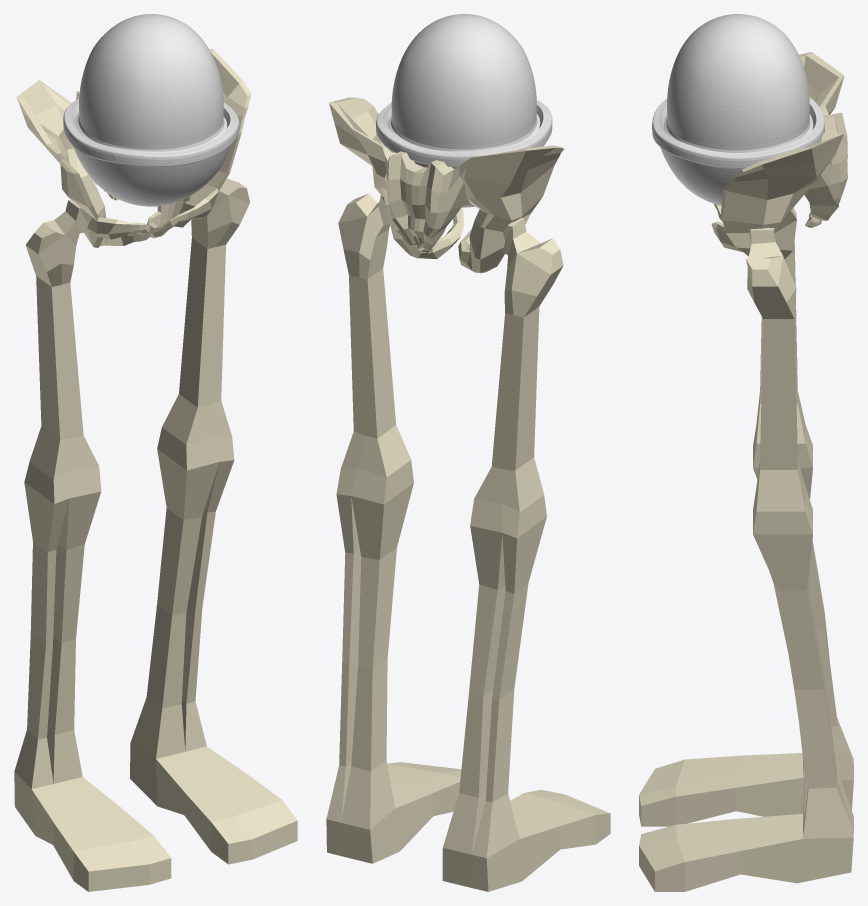
File: skeleton alien whole.fbx
The picture shows the model from 3 angles, left to right: view 1: azimuth 30°, elevation 25°; view 2: azimuth 150°, elevation 25°; view 3: azimuth 270°, elevation 25°; orthographic projection.
Parts seen in each view (by area): view 1: CONNECTED; view 2: CONNECTED; view 3: CONNECTED.
Boxes of the visible parts, x1,y1,x2,y2 form: CONNECTED: (14,14,297,891); CONNECTED: (326,14,610,891); CONNECTED: (639,14,853,891).
Bounding box in the file's own units: 430 × 1585 × 376.
